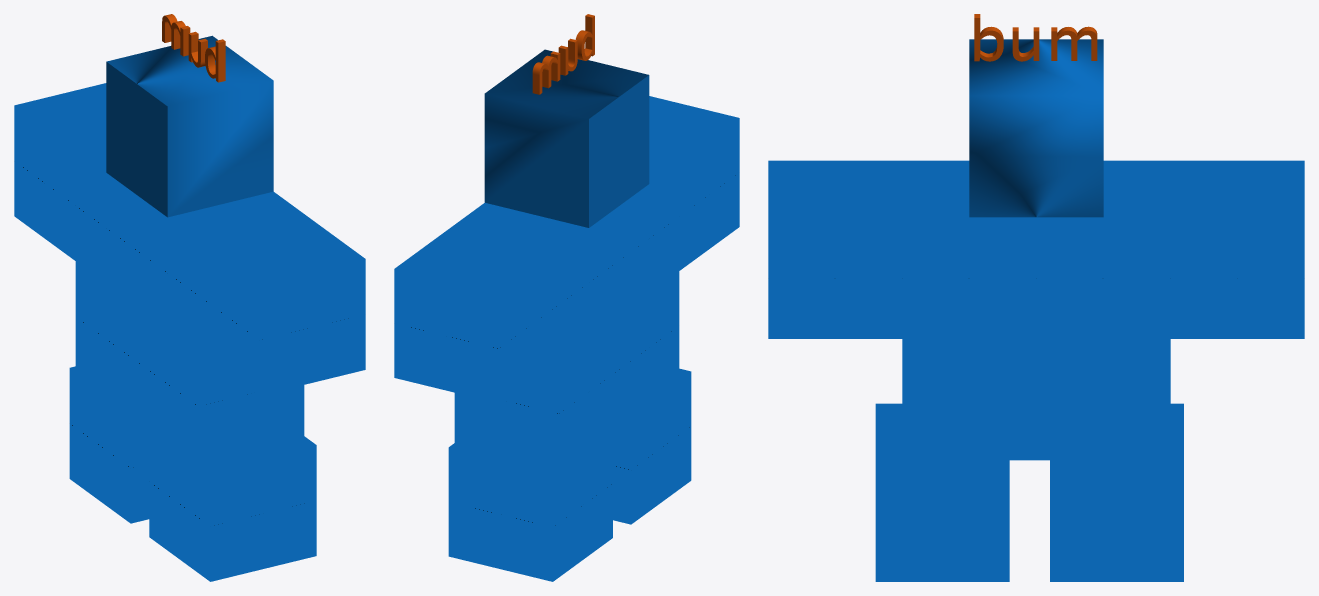
The model's file is WackyMan.fbx.
The picture shows the model from 3 angles, left to right: view 1: azimuth 30°, elevation 25°; view 2: azimuth 150°, elevation 25°; view 3: azimuth 270°, elevation 25°; orthographic projection. The views are drawn at different scales.
Parts seen in each view (by area): view 1: pCube6, pCube7, pCube9, pCube2, pCube5, pCube4, pCube8, pCube3, pCube1, typeMesh1; view 2: pCube5, pCube7, pCube8, pCube1, pCube6, pCube3, pCube9, pCube4, pCube2, typeMesh1; view 3: pCube5, pCube6, pCube7, pCube3, pCube4, pCube9, pCube8, pCube1, pCube2, typeMesh1.
Boxes of the visible parts, left/top/right/bottom form: pCube6: left=198, top=214, right=365, bottom=395; pCube7: left=106, top=35, right=273, bottom=217; pCube9: left=149, top=426, right=316, bottom=581; pCube2: left=137, top=306, right=304, bottom=461; pCube5: left=14, top=83, right=106, bottom=260; pCube4: left=137, top=191, right=303, bottom=350; pCube8: left=69, top=366, right=149, bottom=523; pCube3: left=75, top=143, right=136, bottom=305; pCube1: left=75, top=261, right=136, bottom=416; typeMesh1: left=162, top=14, right=225, bottom=82; pCube5: left=394, top=225, right=558, bottom=403; pCube7: left=484, top=49, right=649, bottom=227; pCube8: left=448, top=429, right=612, bottom=581; pCube1: left=454, top=315, right=618, bottom=468; pCube6: left=649, top=96, right=739, bottom=270; pCube3: left=455, top=203, right=618, bottom=358; pCube9: left=613, top=368, right=691, bottom=524; pCube4: left=619, top=154, right=679, bottom=314; pCube2: left=619, top=271, right=679, bottom=423; typeMesh1: left=532, top=14, right=594, bottom=94; pCube5: left=1170, top=160, right=1304, bottom=338; pCube6: left=768, top=160, right=902, bottom=338; pCube7: left=969, top=39, right=1103, bottom=217; pCube3: left=1036, top=160, right=1170, bottom=338; pCube4: left=902, top=160, right=1036, bottom=338; pCube9: left=875, top=403, right=1009, bottom=581; pCube8: left=1050, top=403, right=1183, bottom=581; pCube1: left=1036, top=339, right=1170, bottom=460; pCube2: left=902, top=339, right=1036, bottom=460; typeMesh1: left=974, top=14, right=1097, bottom=61.
Bounding box in the file's own units: 1 × 4.44 × 4.
